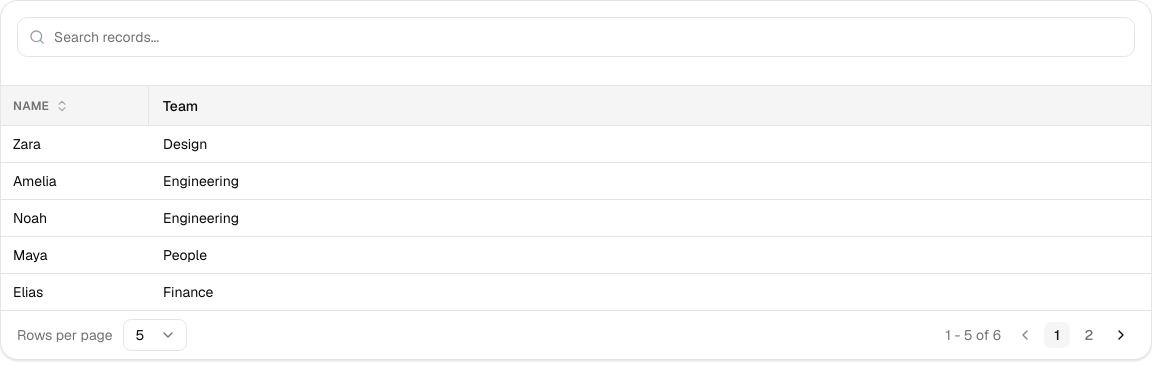
it: renders records and filters by global search
The image size is (1152, 378).
Expected: the text "Zara" is shown, 1,126 -> 151,163
Type "Amelia" into the field labelled "Search records" at point(576, 37), box 17,17 -> 1135,57
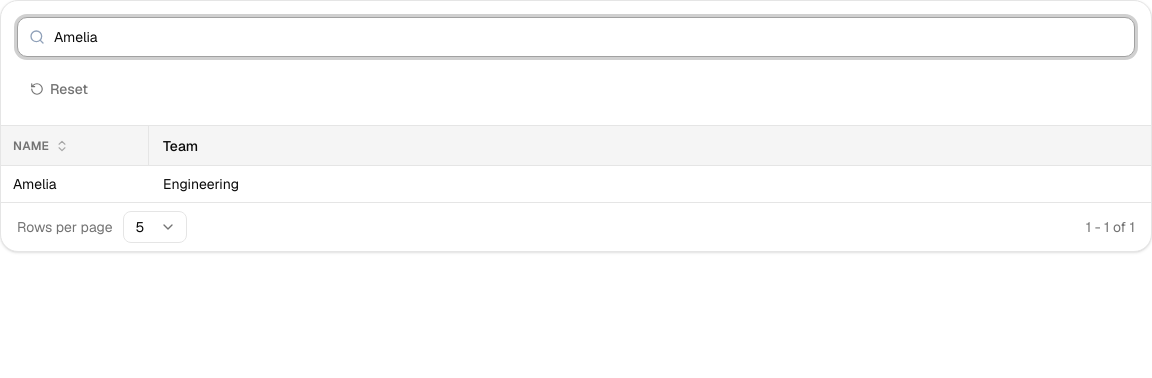
Expected: the text "Amelia" is shown, 1,166 -> 151,202
Expected: the text "Zara" is gone
